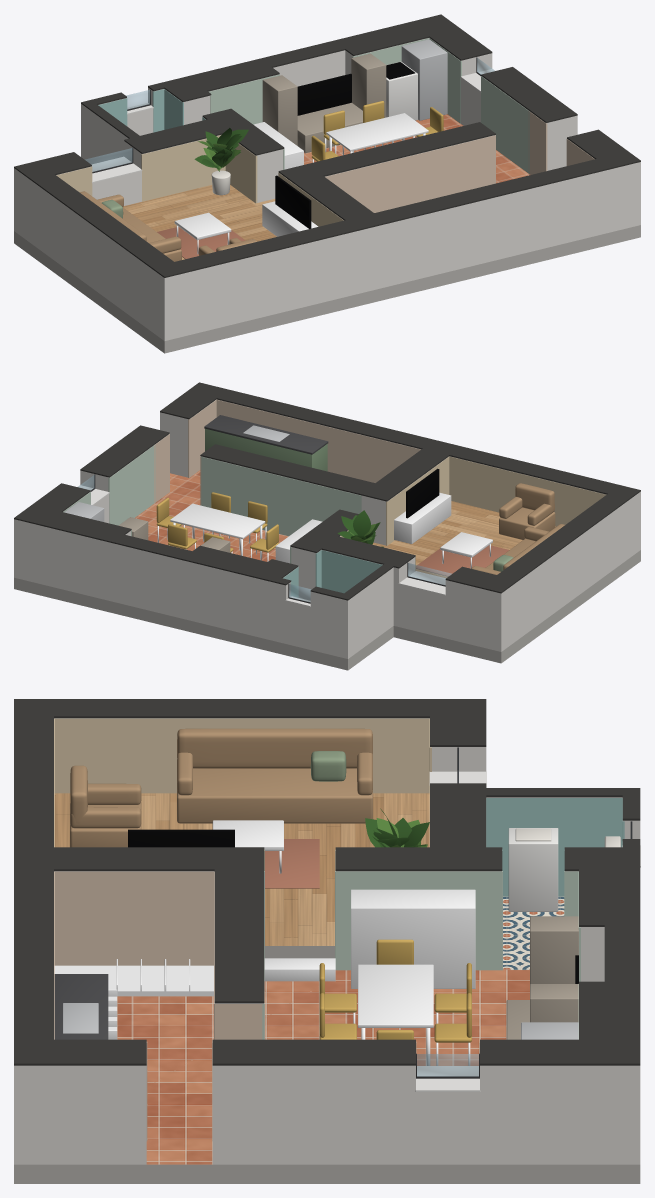
The picture shows the model from 3 angles, top to bottom: view 1: azimuth 30°, elevation 25°; view 2: azimuth 150°, elevation 25°; view 3: azimuth 270°, elevation 25°; orthographic projection. The views are drawn at different scales.
Visible parts, largest first — view 1: walls, caps, floor, paint.002, paint.001, paint, floor.001, arr_Cube.042, arr_Cube.044, arr_Cube.037, arr_Cube.038, arr_Cube.039 (+14 smaller); view 2: walls, caps, floor, paint.001, paint.002, paint, floor.001, paint.003, sill, arr_Cube.057, arr_Cube.044, arr_Cube.058 (+13 smaller); view 3: caps, walls, floor, paint.002, paint, floor.001, arr_Cube.043, arr_Cube.023, paint.001, arr_Cube.024, paint.003, arr_Cube.044 (+25 smaller).
Boxes of the visible parts, x1,y1,x2,y2 form: walls: (14,37,640,341); caps: (14,14,640,277); floor: (14,114,640,353); paint.002: (325,111,594,212); paint.001: (209,38,529,174); paint: (56,135,343,226); floor.001: (123,185,276,259); arr_Cube.042: (401,39,447,120); arr_Cube.044: (326,113,428,151); arr_Cube.037: (262,75,297,145); arr_Cube.038: (351,53,386,117); arr_Cube.039: (297,73,351,115); walls: (14,399,640,658); caps: (14,382,640,600); floor: (14,470,640,670); paint.001: (63,445,361,563); paint.002: (154,399,420,505); paint: (340,456,606,571); floor.001: (372,501,555,577); paint.003: (283,550,382,597); sill: (399,584,445,638); arr_Cube.057: (205,428,327,471); arr_Cube.044: (170,503,265,539); arr_Cube.058: (204,415,328,454); caps: (14,699,640,1065); walls: (14,718,640,1164); floor: (14,896,640,1183); paint.002: (54,871,264,1140); paint: (54,718,431,870); floor.001: (54,793,429,958); arr_Cube.043: (351,889,475,988); arr_Cube.023: (177,768,372,823); paint.001: (262,871,580,1053); arr_Cube.024: (177,728,372,768); paint.003: (486,798,624,896); arr_Cube.044: (358,964,433,1027).
Size of the model in its own units: 9.69 by 1.87 by 7.04.
Materials: 27 (1 with a texture image).
